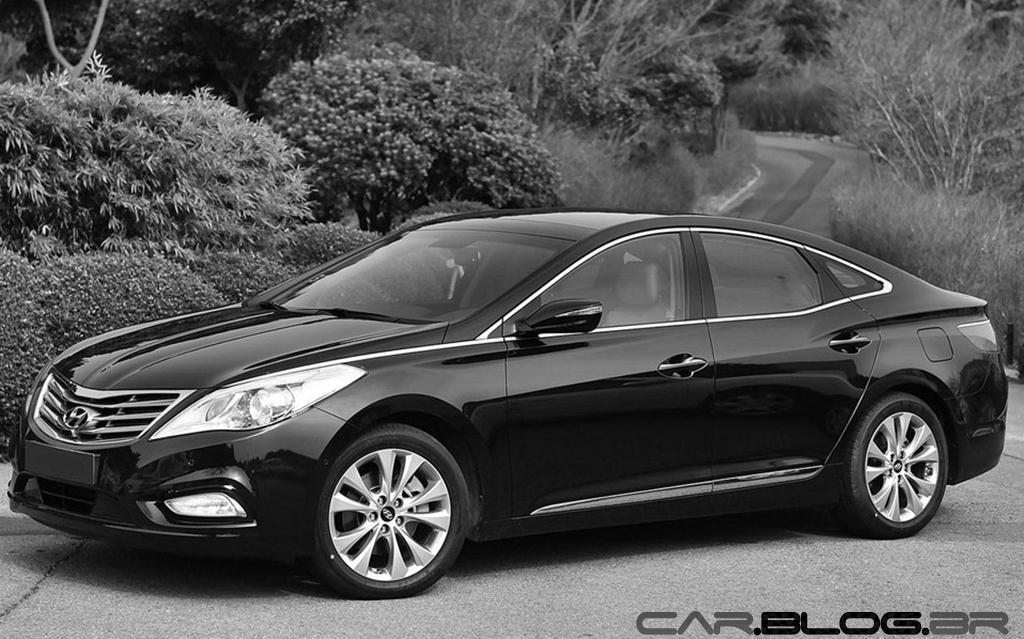car: (9, 214, 1020, 600)
